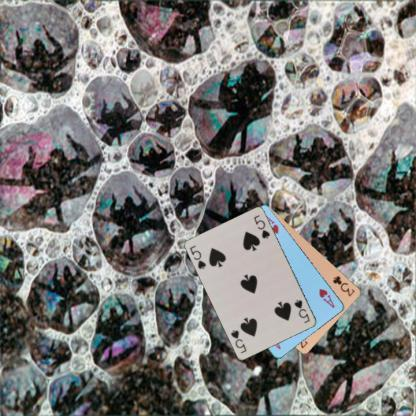3c: (330, 273, 356, 298)
5s: (187, 242, 208, 270), (292, 297, 312, 325)
Ah: (316, 286, 336, 309)
